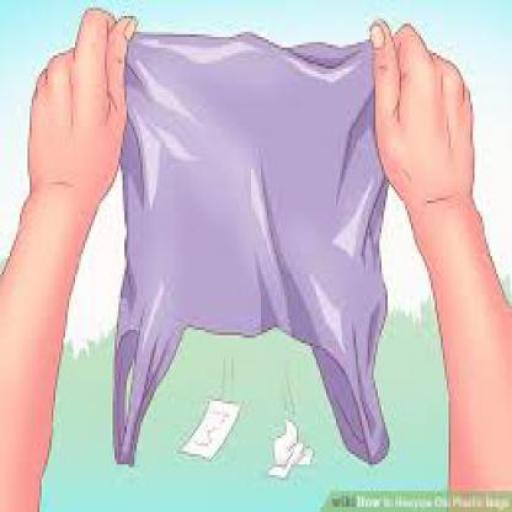paper: (176, 396, 238, 457), (266, 420, 311, 472)
plastic: (110, 29, 396, 465)
